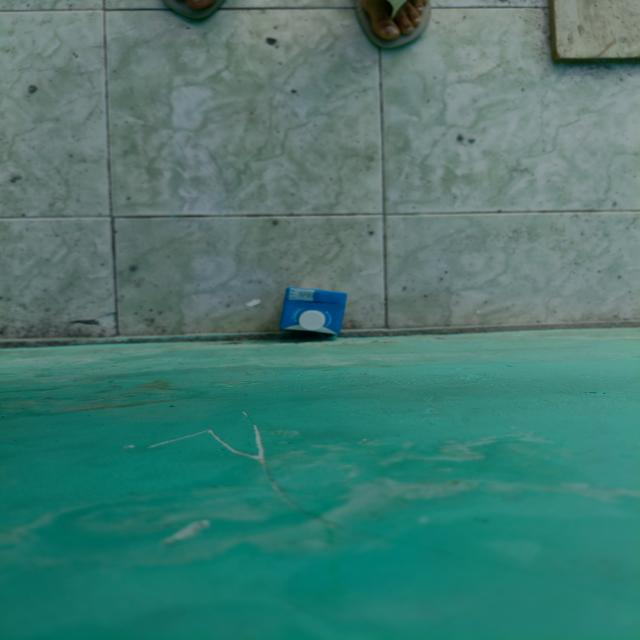Caixa de Leite: (278, 286, 350, 336)
